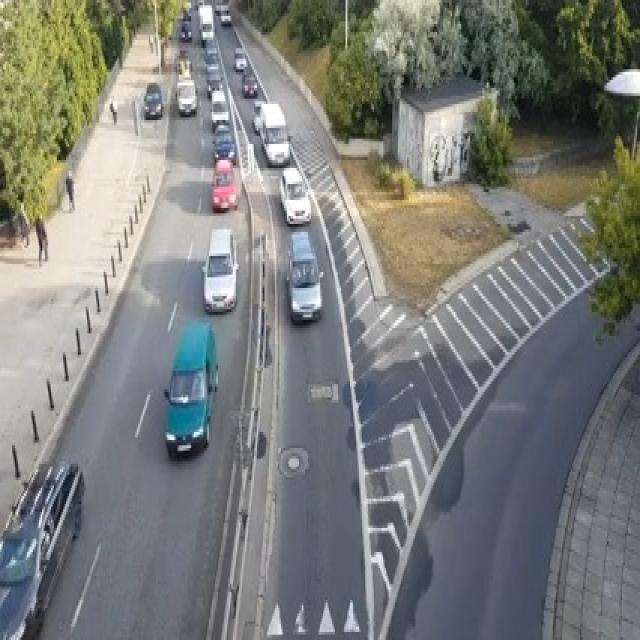car: (0, 459, 84, 637), (162, 320, 218, 456), (285, 229, 323, 323), (201, 227, 239, 312), (258, 101, 290, 166), (278, 165, 311, 224), (210, 157, 238, 211), (212, 122, 236, 162), (176, 77, 197, 115), (210, 88, 228, 131), (143, 83, 162, 117), (251, 99, 264, 133), (206, 72, 222, 99), (240, 72, 257, 96), (233, 45, 246, 72), (204, 51, 220, 72), (176, 56, 191, 77), (180, 21, 191, 40), (213, 0, 228, 13), (220, 8, 232, 24), (206, 40, 216, 59)
